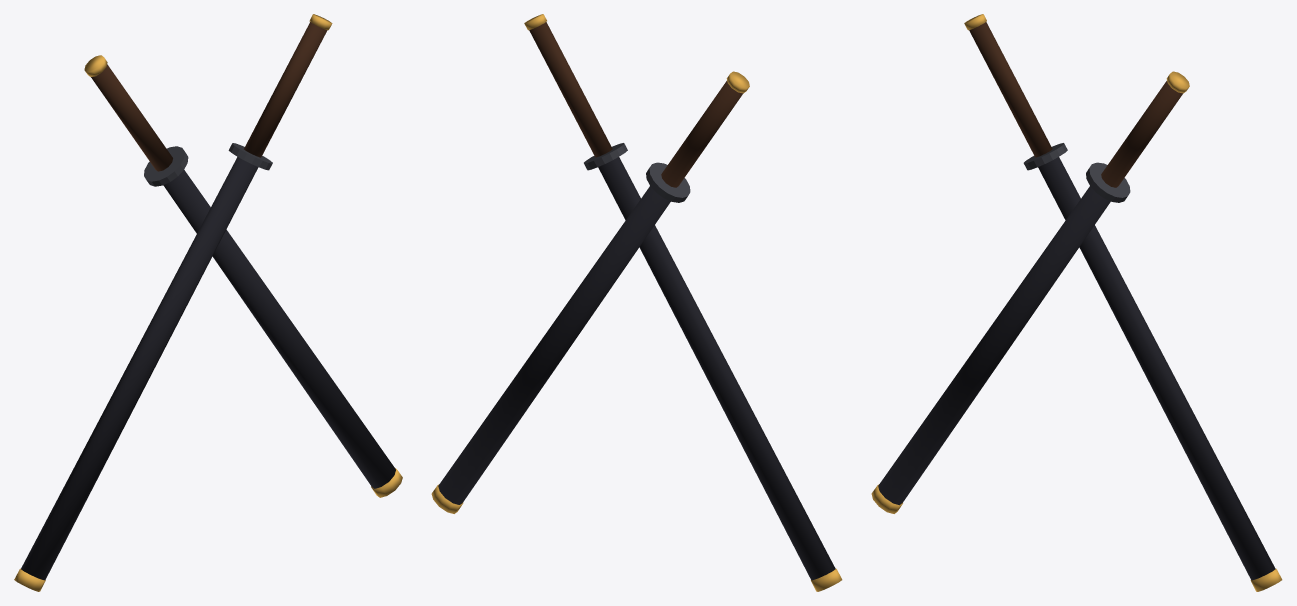
File: twin_swords.glb
3 renders of one model, left to right at view 1: azimuth 30°, elevation 25°; view 2: azimuth 150°, elevation 25°; view 3: azimuth 330°, elevation 25°, orthographic.
Parts seen in each view (by area): view 1: twin_swords; view 2: twin_swords; view 3: twin_swords.
Part boxes in pixels (left/top/right/bottom): twin_swords: left=14, top=14, right=402, bottom=591; twin_swords: left=431, top=14, right=842, bottom=591; twin_swords: left=871, top=14, right=1282, bottom=591.
Bounding box in the file's own units: 0.7197 × 0.8806 × 0.0991.
